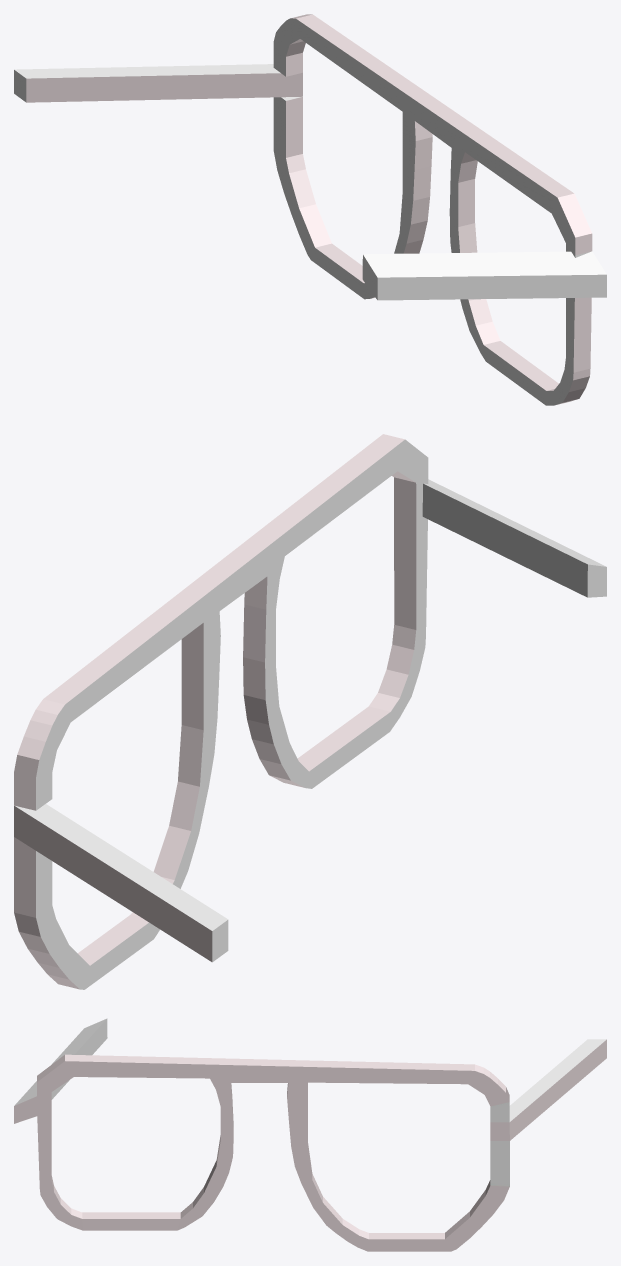
The model's file is asset.glb.
3 views of the same model, one above another, from view 1: azimuth 30°, elevation 25°; view 2: azimuth 150°, elevation 25°; view 3: azimuth 270°, elevation 25° (orthographic). The views are drawn at different scales.
Parts seen in each view (by area): view 1: Plane; view 2: Plane; view 3: Plane.
Boxes of the visible parts, left/top/right/bottom form: Plane: left=14, top=14, right=606, bottom=405; Plane: left=14, top=434, right=606, bottom=989; Plane: left=14, top=1018, right=606, bottom=1251.
Size of the model in its own units: 0.0754 by 0.0816 by 0.2302.
Materials: 1 (1 with a texture image).
